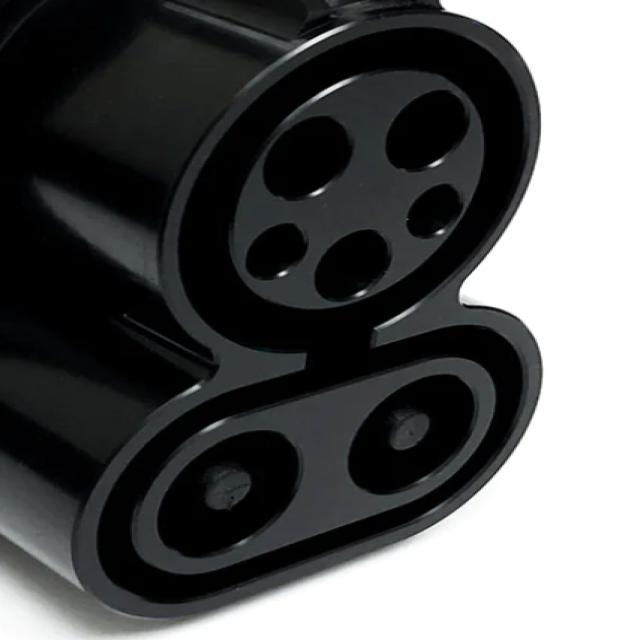CCS1: (94, 47, 569, 615)
